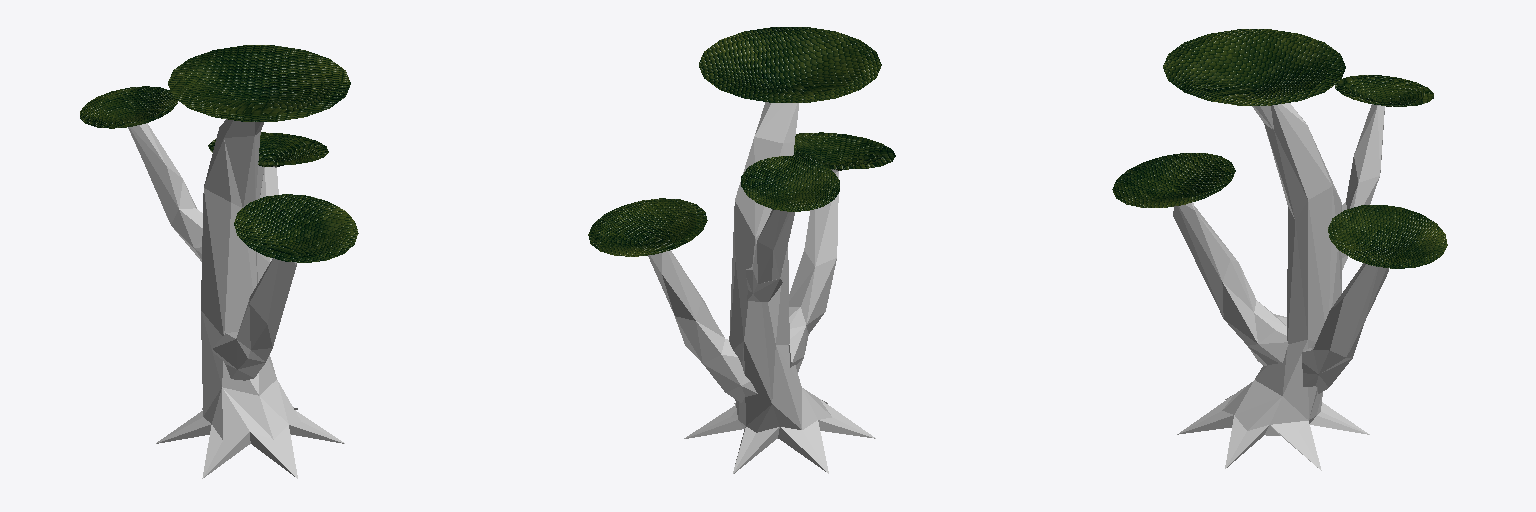
3 renders of one model, left to right at view 1: azimuth 30°, elevation 25°; view 2: azimuth 150°, elevation 25°; view 3: azimuth 270°, elevation 25°, orthographic.
Visible parts, largest first — view 1: Cylinder.003_Cylinder.005, Cylinder.005_Cylinder.009; view 2: Cylinder.003_Cylinder.005, Cylinder.005_Cylinder.009; view 3: Cylinder.003_Cylinder.005, Cylinder.005_Cylinder.009.
Part boxes in pixels (x1,y1,x2,y2): Cylinder.003_Cylinder.005: (128,119,344,478); Cylinder.005_Cylinder.009: (80,45,358,262); Cylinder.003_Cylinder.005: (648,102,875,473); Cylinder.005_Cylinder.009: (588,27,895,256); Cylinder.003_Cylinder.005: (1173,103,1388,470); Cylinder.005_Cylinder.009: (1112,29,1447,268).
Bounding box in the file's own units: 6.06 × 9.01 × 7.45.
2 materials, 1 textured.